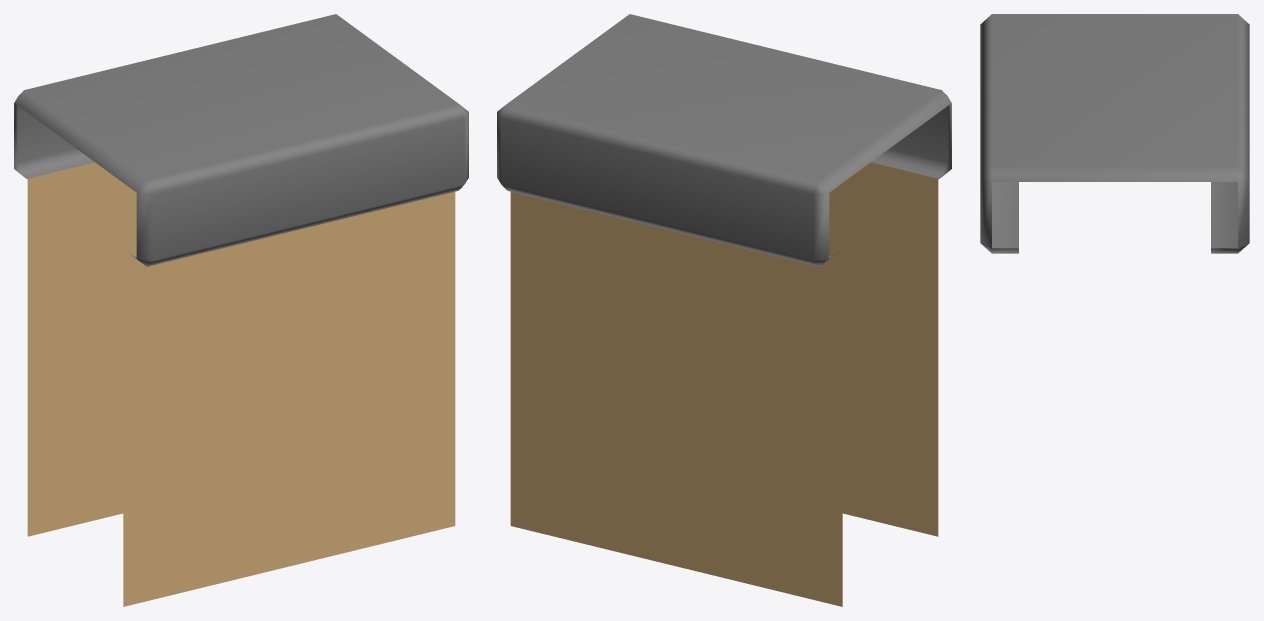
File: SM_WallB_2x2_LOD1.fbx
3 renders of one model, left to right at view 1: azimuth 30°, elevation 25°; view 2: azimuth 150°, elevation 25°; view 3: azimuth 270°, elevation 25°, orthographic.
Visible parts, largest first — view 1: SM_WallB_2x2_LOD1; view 2: SM_WallB_2x2_LOD1; view 3: SM_WallB_2x2_LOD1.
Boxes of the visible parts, <box> form: SM_WallB_2x2_LOD1: <box>14,14,468,606</box>; SM_WallB_2x2_LOD1: <box>497,14,951,606</box>; SM_WallB_2x2_LOD1: <box>980,14,1249,253</box>.
Bounding box in the file's own units: 2 × 2.5 × 1.4.
